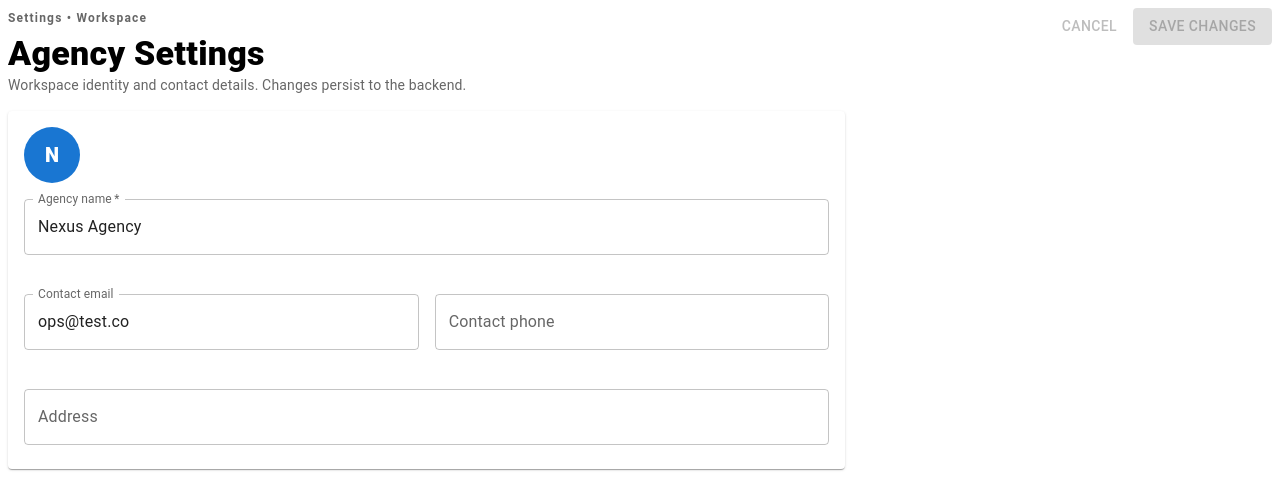
Test case: AgencySettingsPage › loads live settings and validates the agency name
The image size is (1280, 488).
Clear the field labelled "Agency name *" at (427, 227), box top-left (24, 199), bottom-right (829, 255)
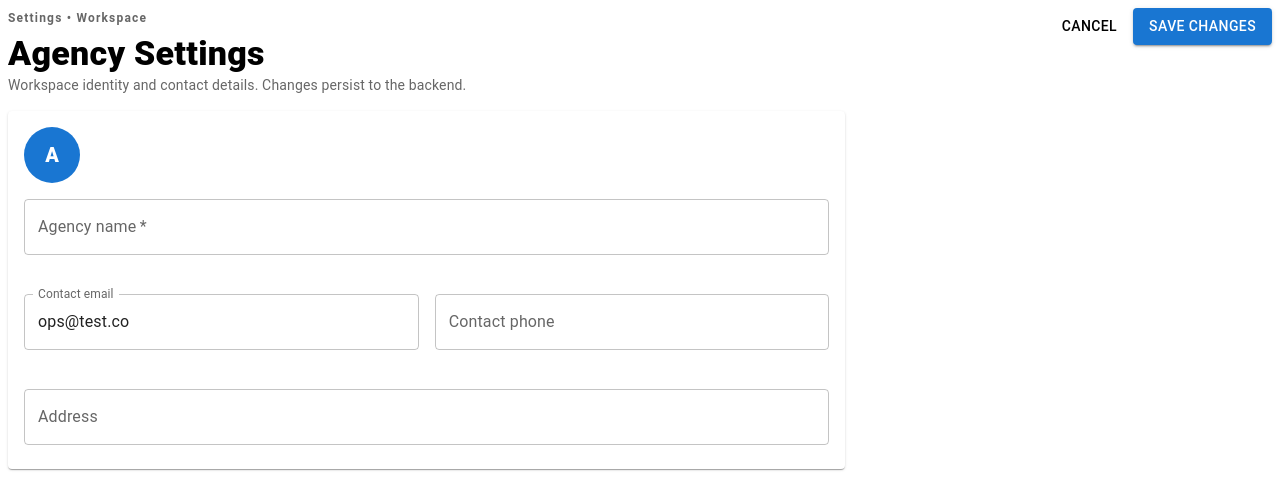
Click the button "Save changes" at (1203, 26), box top-left (1133, 8), bottom-right (1272, 44)
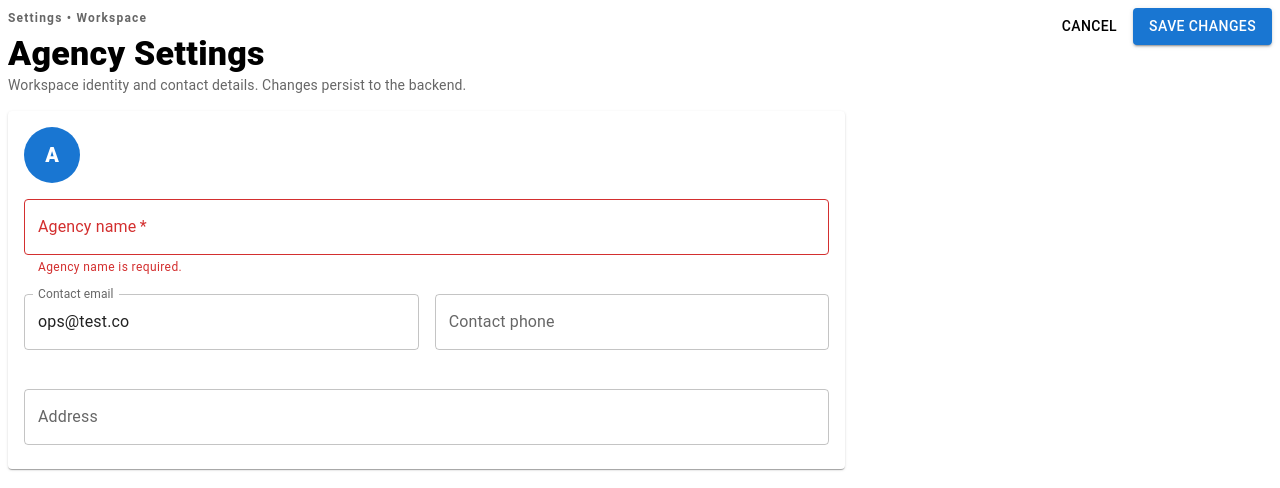
Now the text "Agency name is required." is shown, box top-left (38, 260), bottom-right (182, 274)
